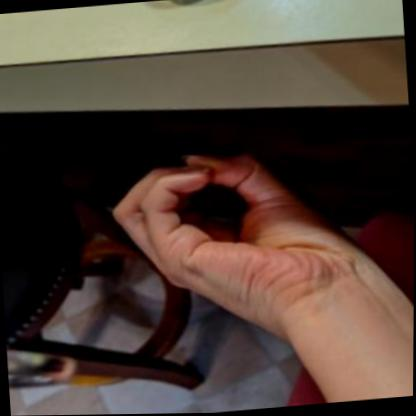O: (92, 125, 386, 355)
